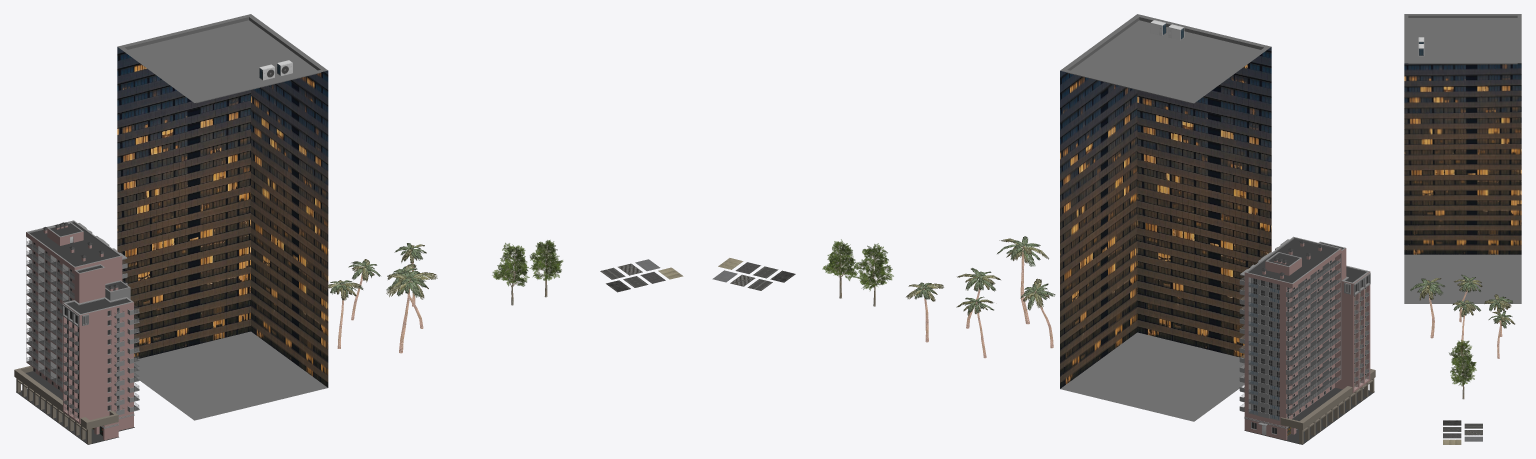
The model's file is riviera_assets_1.glb.
3 renders of one model, left to right at view 1: azimuth 30°, elevation 25°; view 2: azimuth 150°, elevation 25°; view 3: azimuth 270°, elevation 25°, orthographic. The views are drawn at different scales.
Parts seen in each view (by area): view 1: Building, monaco residential 3_Material #25_0, Tree 1, Palm Tree By Hamza_002, Tree 2; view 2: Building, monaco residential 3_Material #25_0, Tree 1, Tree 2, Palm Tree By Hamza_002, Palm Tree By Hamza_003; view 3: Building, Palm Tree By Hamza_002, Tree 2, Tree 1, Palm Tree By Hamza_003, Palm Tree By Hamza_005, Palm Tree By Hamza_004, Palm Tree By Hamza_006.
Boxes of the visible parts, x1,y1,x2,y2 form: Building: [117, 14, 328, 420]; monaco residential 3_Material #25_0: [14, 220, 139, 444]; Tree 1: [492, 243, 529, 305]; Palm Tree By Hamza_002: [386, 270, 437, 353]; Tree 2: [529, 240, 563, 297]; Building: [1060, 14, 1271, 421]; monaco residential 3_Material #25_0: [1239, 236, 1375, 444]; Tree 1: [853, 243, 893, 306]; Tree 2: [822, 239, 857, 298]; Palm Tree By Hamza_002: [997, 236, 1048, 324]; Palm Tree By Hamza_003: [1020, 278, 1055, 348]; Building: [1404, 14, 1521, 303]; Palm Tree By Hamza_002: [1410, 278, 1444, 338]; Tree 2: [1450, 355, 1475, 399]; Tree 1: [1449, 340, 1476, 386]; Palm Tree By Hamza_003: [1454, 274, 1482, 322]; Palm Tree By Hamza_005: [1452, 300, 1480, 352]; Palm Tree By Hamza_004: [1484, 294, 1512, 336]; Palm Tree By Hamza_006: [1488, 311, 1514, 358].
Size of the model in its own units: 301 by 150 by 64.67.
13 materials, 12 textured.
